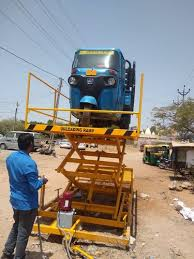Scissor Lift: (23, 72, 145, 259)
